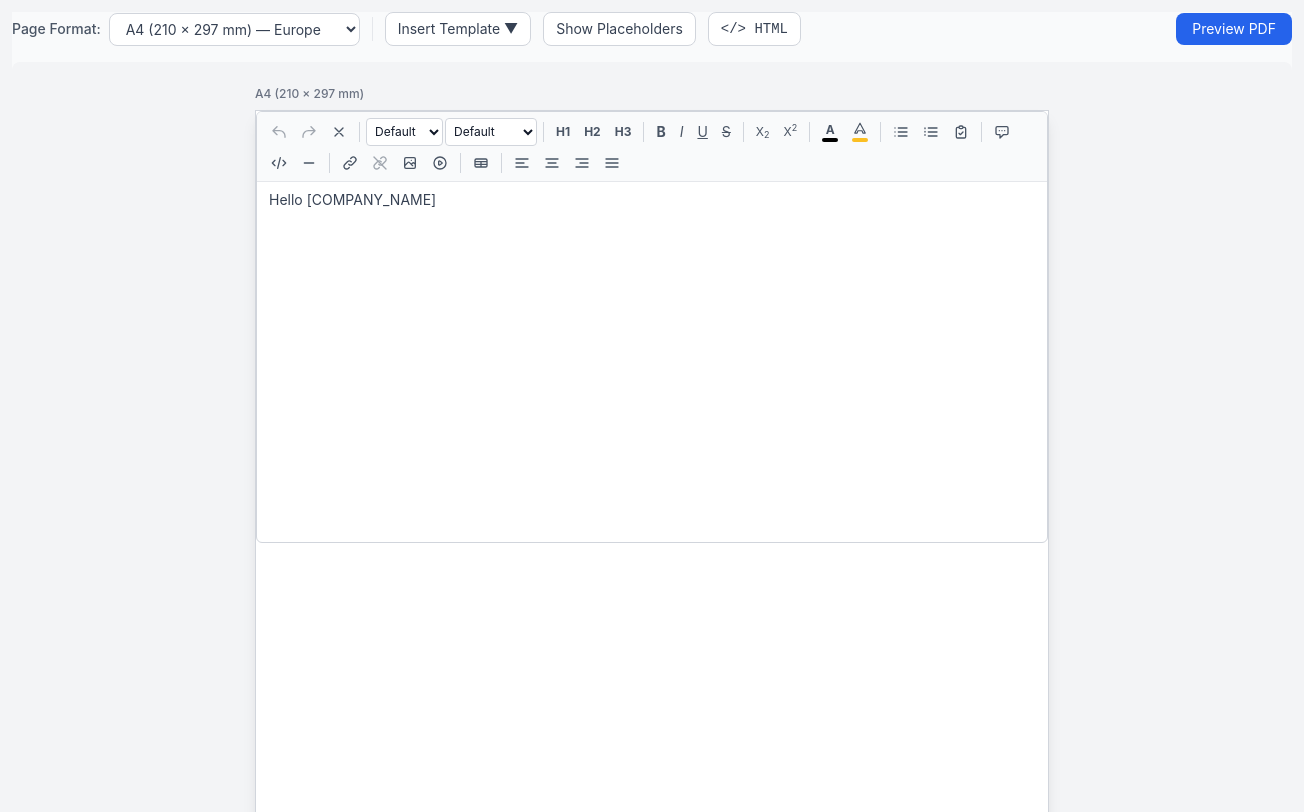
InvoiceTemplateEditor › Preview PDF › shows "Generating..." while preview request is pending
Click the button "Preview PDF" at (1234, 29), box [1176,13,1292,45]
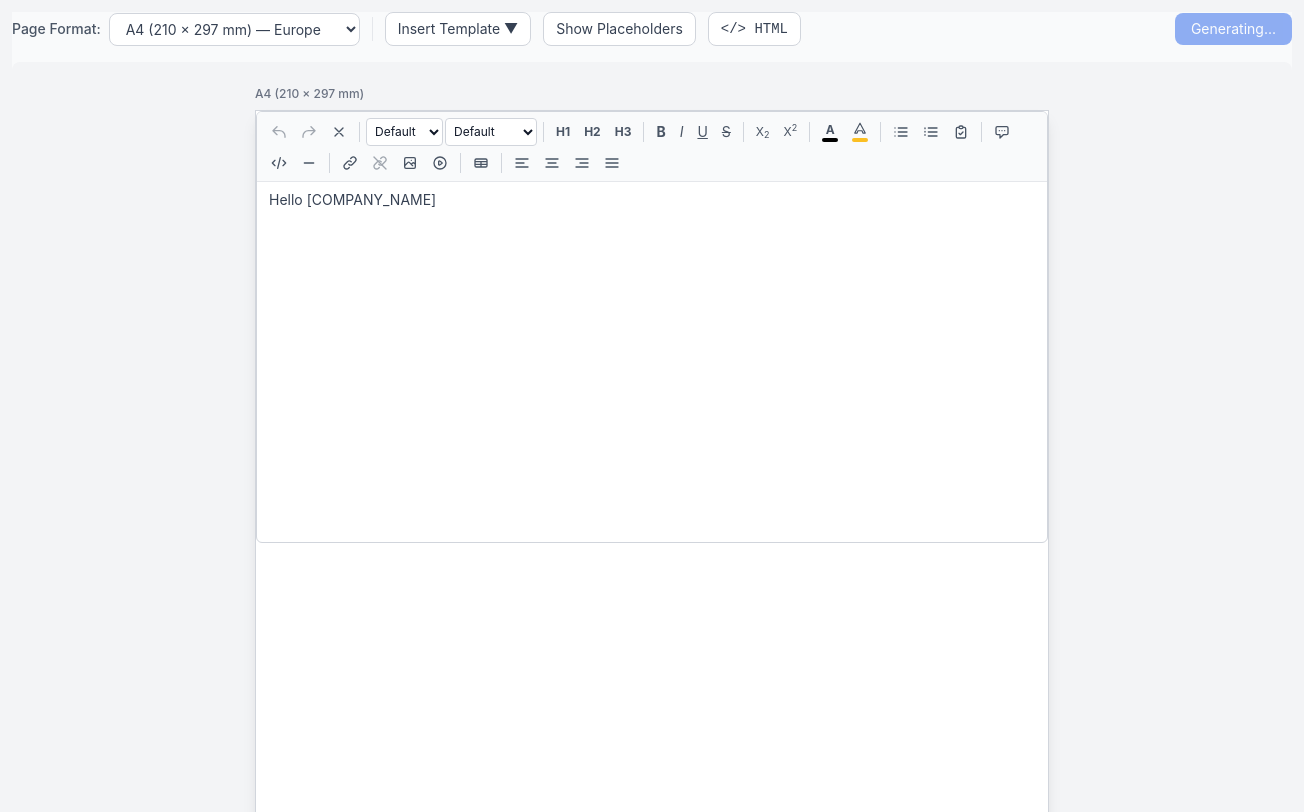
Expected: the button "Generating..." is shown, [1175,13,1292,45]
